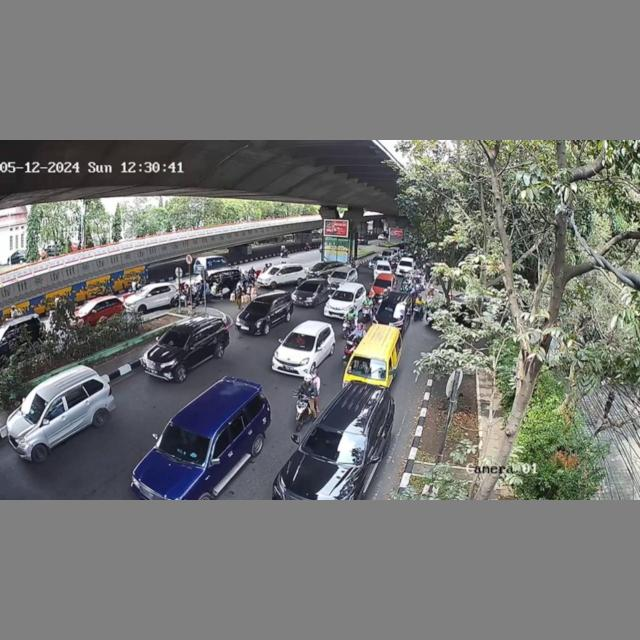windshield: (302, 421, 370, 468), (157, 422, 210, 469), (345, 356, 388, 380), (283, 331, 316, 352), (158, 327, 189, 347)
